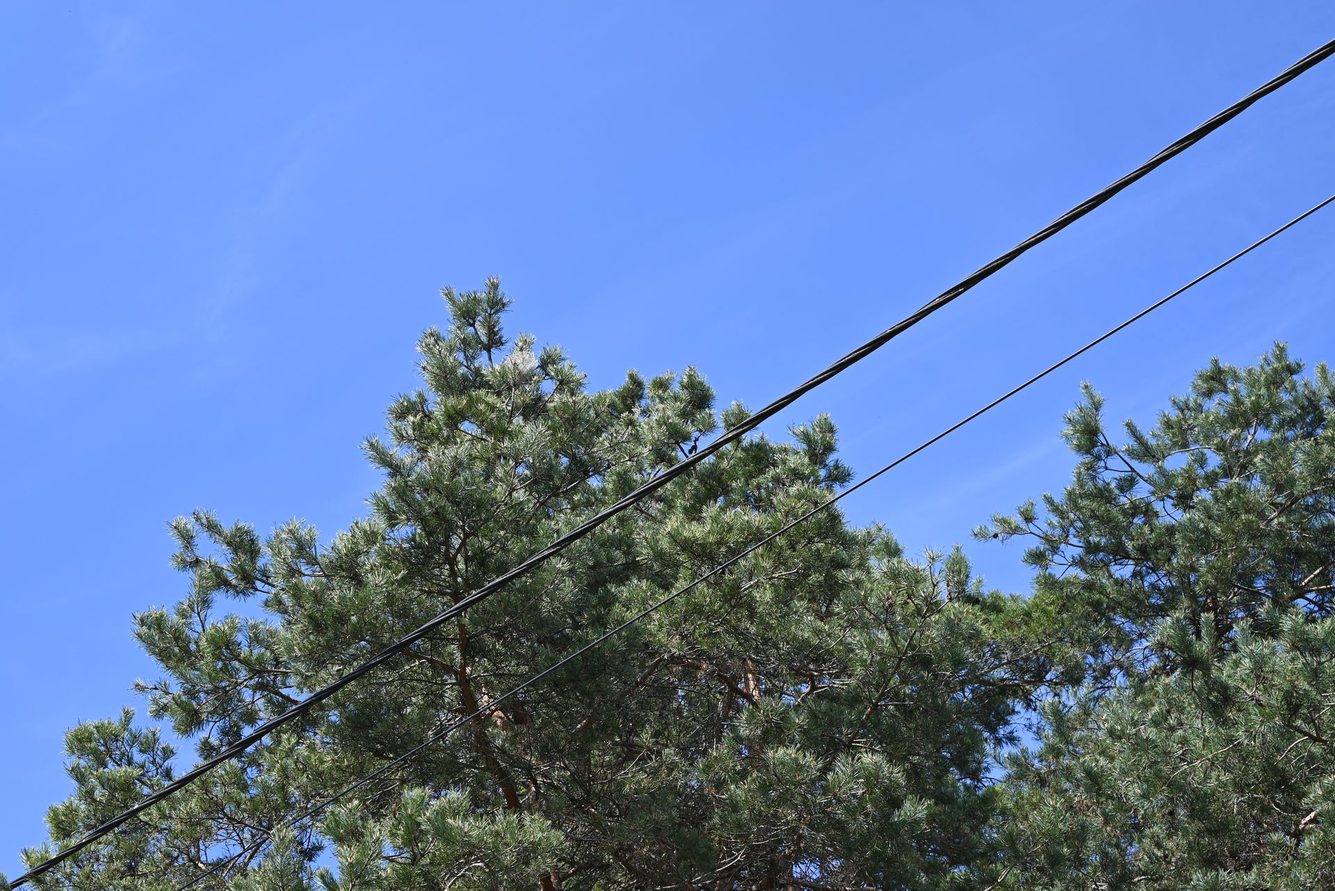thaumatopoea pityocampa jajno gnijezdo: (502, 349, 542, 382)
